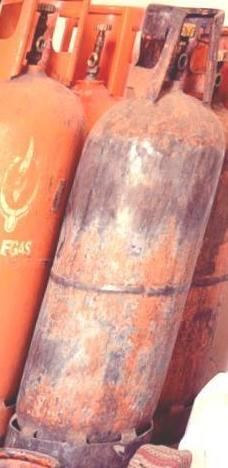cylinder: (1, 1, 228, 468)
